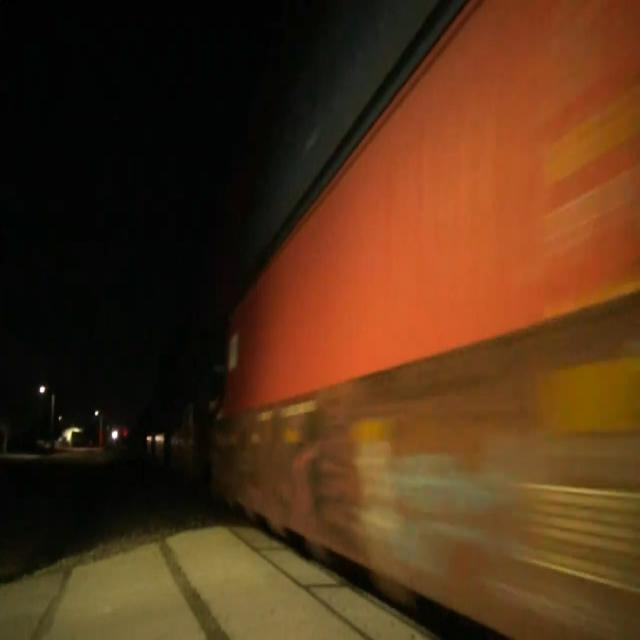container: (216, 0, 640, 433)
gondola: (201, 286, 640, 640)
